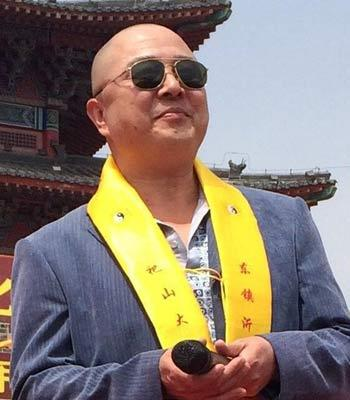no_mask: (84, 18, 212, 178)
